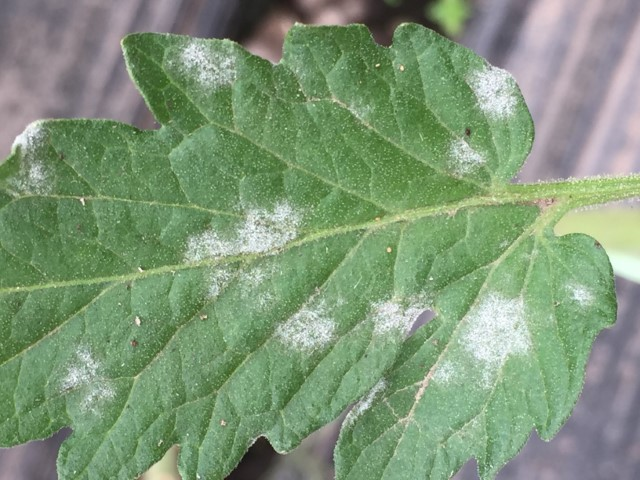oidio: (459, 288, 533, 390), (182, 198, 302, 259), (57, 343, 116, 417), (7, 119, 59, 200), (277, 296, 341, 360), (168, 40, 238, 94), (205, 265, 280, 310), (466, 60, 518, 124), (366, 291, 428, 341), (447, 135, 486, 178), (561, 278, 597, 310), (432, 357, 458, 385)
